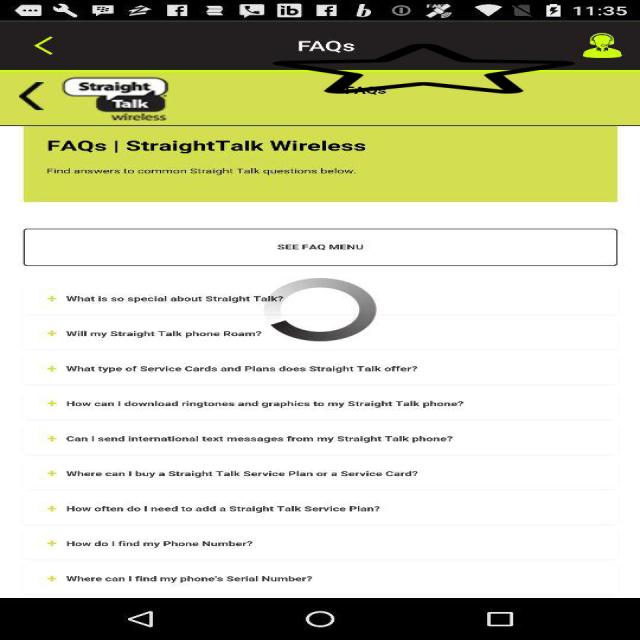forced continuity: (272, 42, 574, 94)
